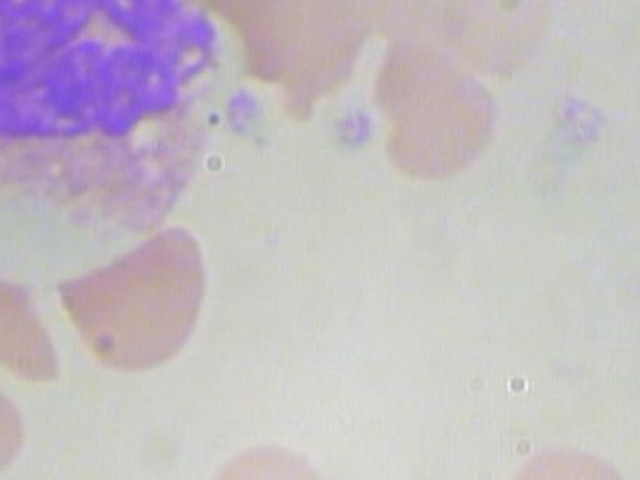Platelets: (223, 83, 272, 141), (330, 107, 375, 156)
RBC: (52, 216, 220, 381), (348, 35, 516, 200), (489, 438, 640, 480), (189, 439, 343, 480)
WBC: (0, 0, 234, 236)
